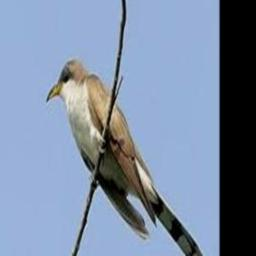Cuckoo: (48, 60, 206, 256)
